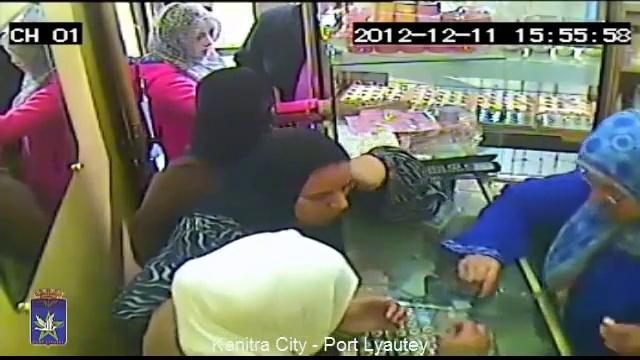Product: (458, 313, 482, 343)
Product-Picked: (116, 231, 445, 360)
Regular: (465, 86, 640, 360), (138, 0, 355, 150), (275, 145, 399, 261), (184, 49, 279, 156)
